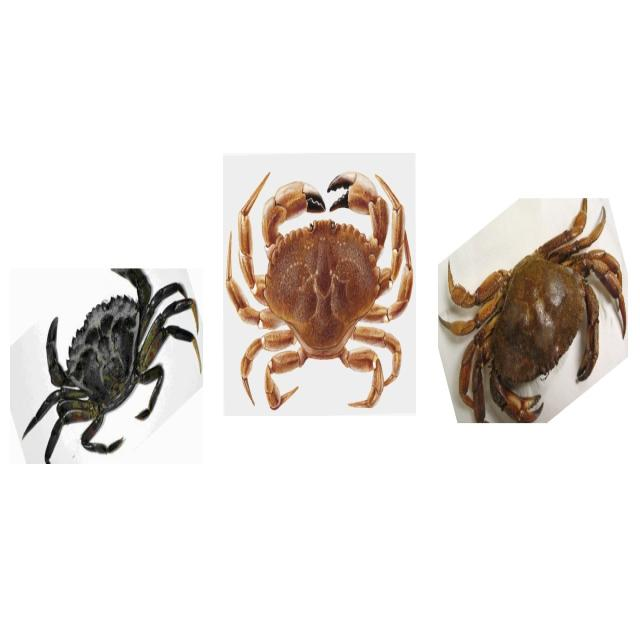egc: (9, 267, 203, 465)
jonah_crab: (225, 158, 415, 417)
rock_crab: (440, 198, 629, 421)
